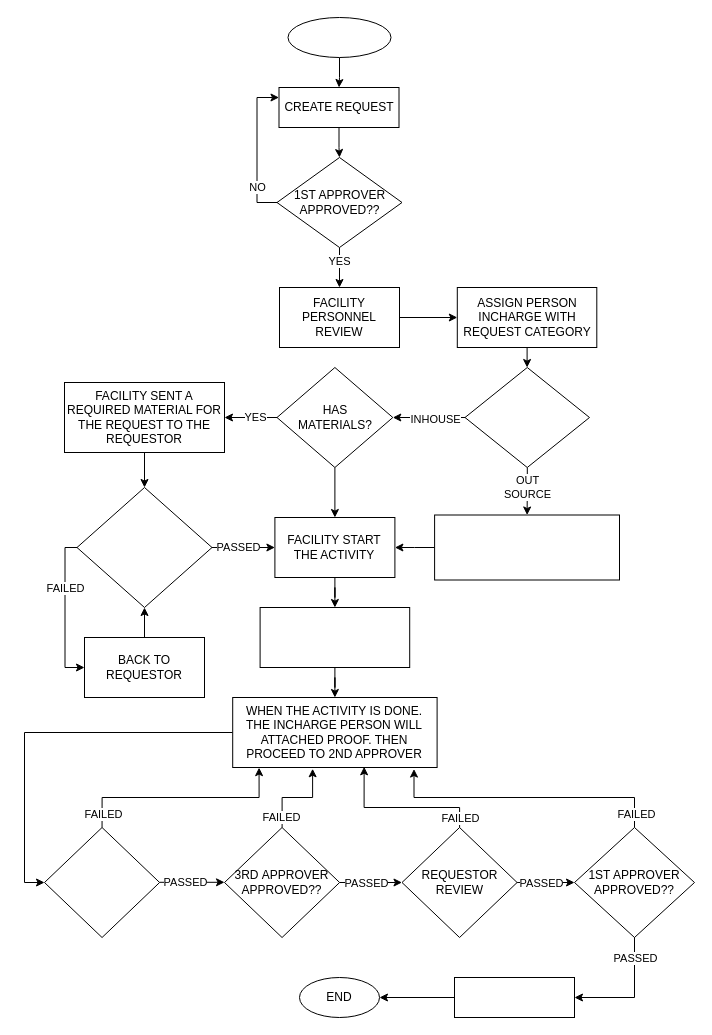
Some shapes in this 712 by 1035 pixel diagram are drawn without their labels. Each missing label, with the centre of its shape:
2ND APPROVER APPROVED??: the point at 102,882
FACILITY VERIFY THE MATERIALS: the point at 144,547
FACILITY WILL CREATE A SCOPE OF WORK FOR THE REQUEST THEN SENT IT TO REQUESTOR: the point at 527,547
INHOUSE OR OUT-SOURCE ??: the point at 527,417
REQUEST COMPLETED: the point at 514,997
START: the point at 339,37
THE ACTIVTY WILL SENT TO THE INCHARGE PERSON: the point at 334,637
